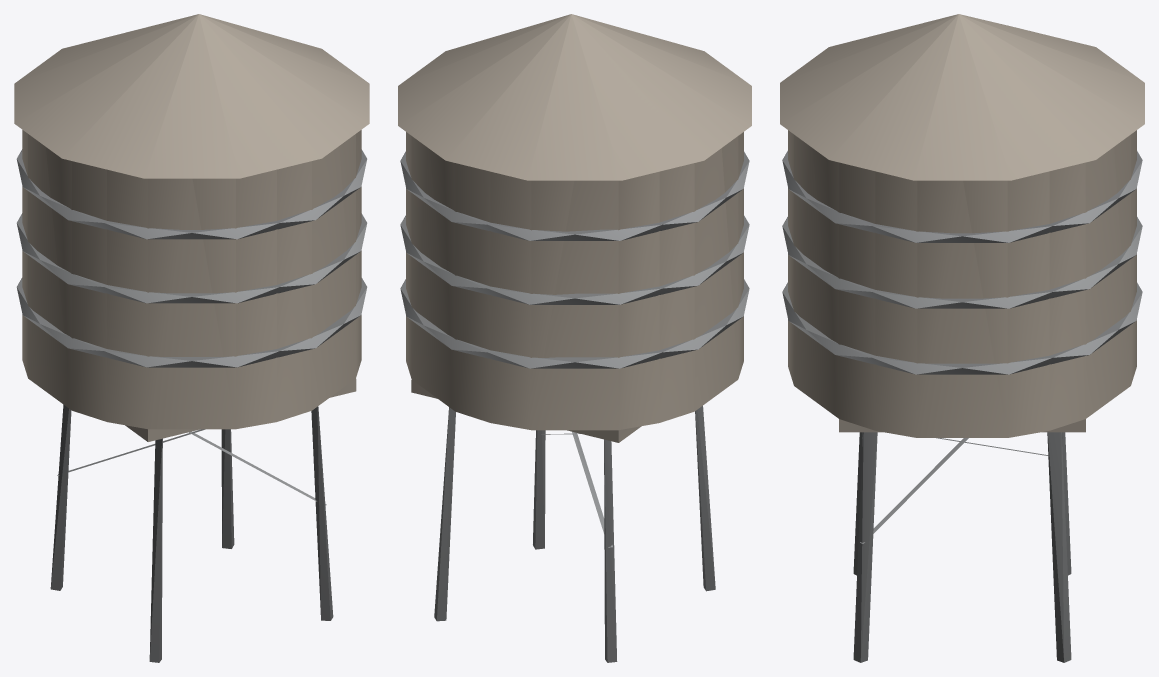
File: watertower.lod1.glb
The picture shows the model from 3 angles, left to right: view 1: azimuth 30°, elevation 25°; view 2: azimuth 150°, elevation 25°; view 3: azimuth 270°, elevation 25°; orthographic projection. The views are drawn at different scales.
Size of the model in its own units: 2.51 by 4.6 by 2.51.
